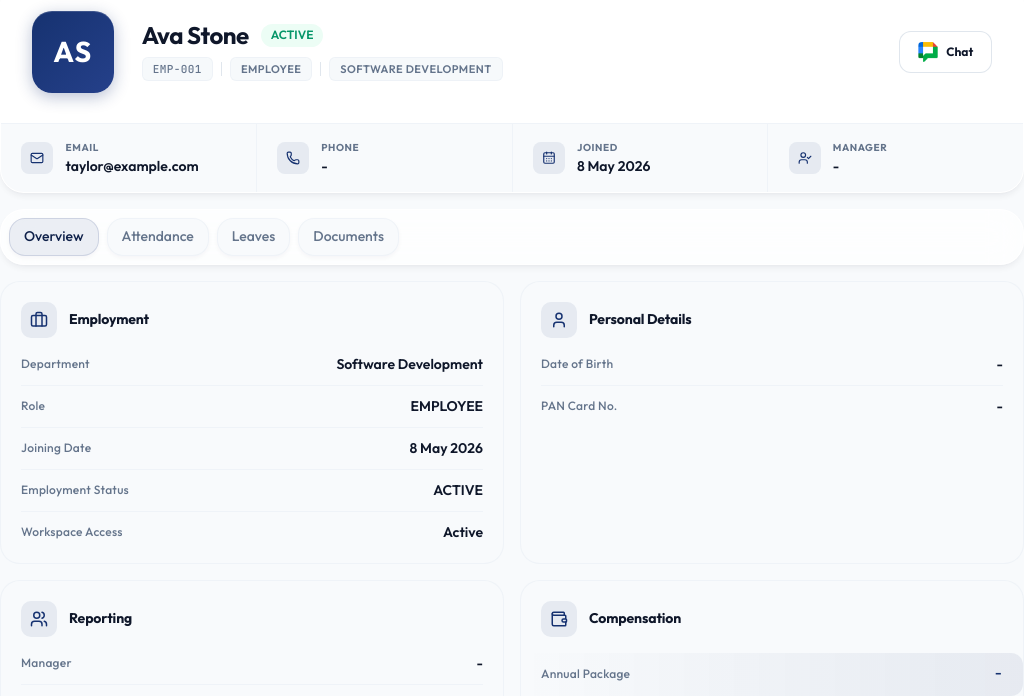
EmployeeProfilePage › only displays available months from the joining month onwards when the joining year is selected
Check: the heading "Ava Stone" is shown, box 142,22 -> 249,49
Note: Switch to Attendance tab
Click the tab "Attendance" at (158, 236), box 106,218 -> 209,256
(page scrolled)
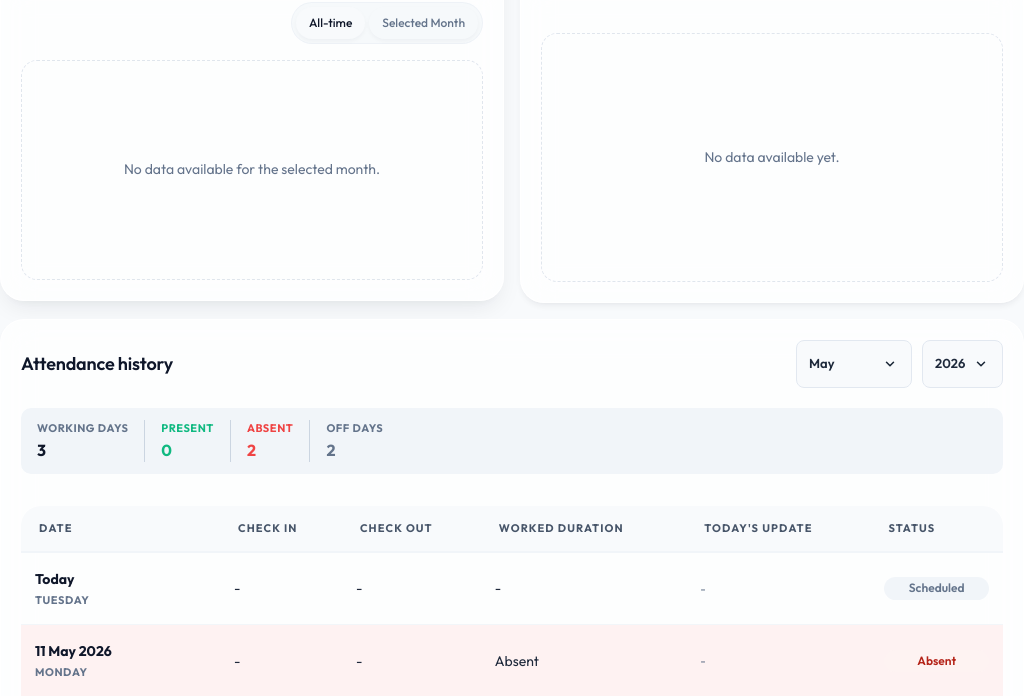
Check: the text "11 May 2026" is shown, box 35,641 -> 112,662
Check: the 1st dropdown with class "month-selector-dropdown" is shown, box 796,340 -> 912,388
